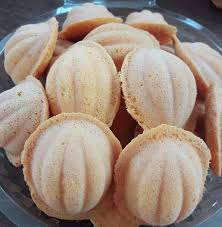kanomkai: (19, 103, 120, 220), (115, 117, 213, 225), (40, 36, 128, 137), (118, 43, 200, 134)
